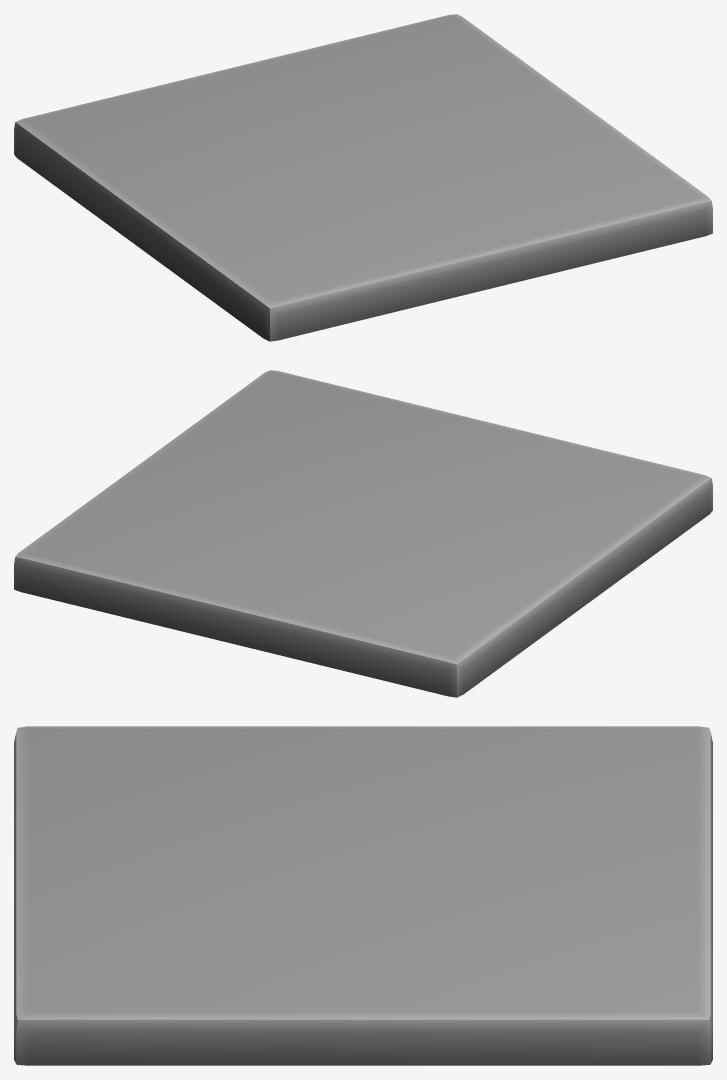
The model's file is CheckPoint.fbx.
The picture shows the model from 3 angles, top to bottom: view 1: azimuth 30°, elevation 25°; view 2: azimuth 150°, elevation 25°; view 3: azimuth 270°, elevation 25°; orthographic projection. The views are drawn at different scales.
Visible parts, largest first — view 1: Plane.001; view 2: Plane.001; view 3: Plane.001.
Part boxes in pixels (box(x1,y1,x2,y2)): Plane.001: box(14, 14, 712, 341); Plane.001: box(14, 370, 712, 697); Plane.001: box(14, 726, 712, 1065).
Size of the model in its own units: 400 by 30 by 400.
